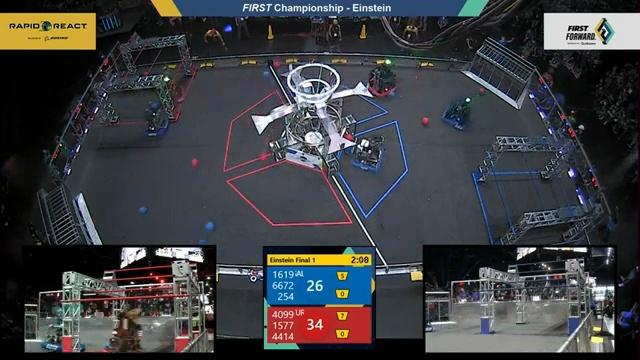robot: (347, 136, 391, 185), (101, 309, 144, 352), (361, 63, 401, 103), (43, 315, 85, 353), (438, 93, 474, 135), (137, 105, 173, 141), (153, 73, 189, 107), (426, 324, 433, 334)
